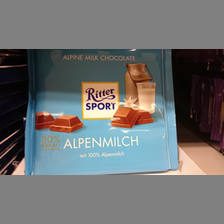chocolate: (26, 50, 179, 174)
